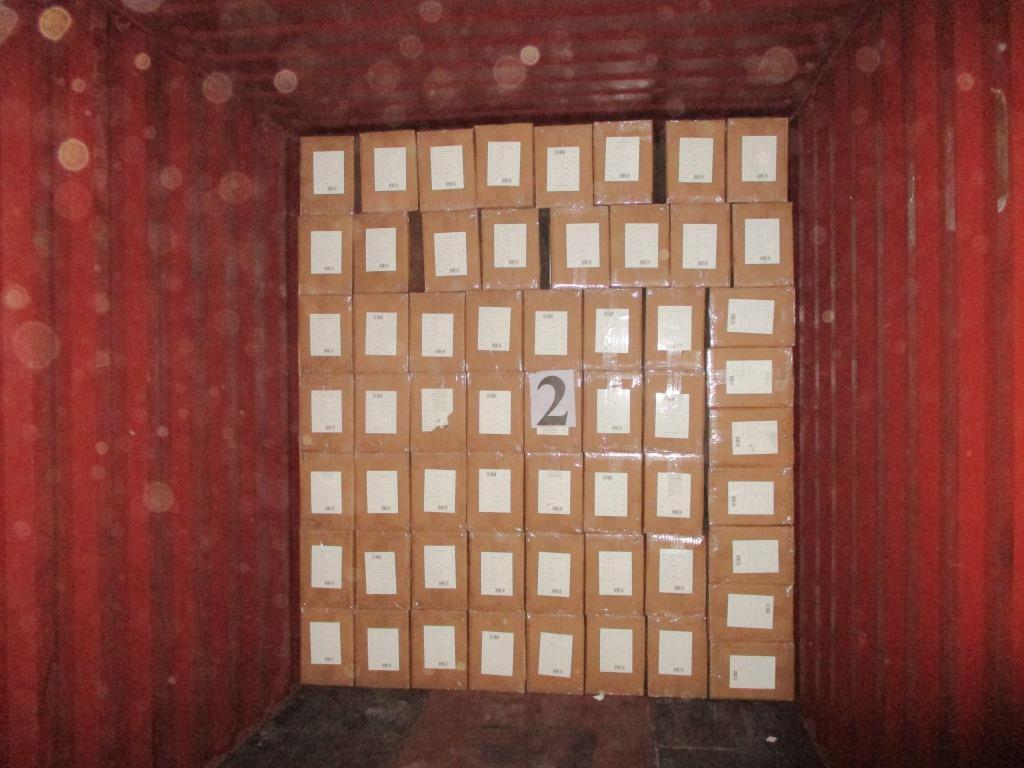carton: (480, 208, 548, 290), (353, 212, 420, 293), (726, 118, 789, 203), (707, 347, 794, 408), (643, 370, 705, 455), (708, 526, 795, 586), (732, 203, 794, 287), (644, 287, 706, 371), (709, 287, 795, 347), (643, 453, 705, 536), (670, 204, 732, 287), (707, 467, 794, 526), (592, 120, 653, 204), (665, 120, 726, 204), (474, 123, 534, 208), (645, 534, 707, 616), (709, 642, 795, 701), (583, 370, 644, 453), (534, 124, 594, 208), (523, 369, 583, 453), (709, 408, 794, 467), (647, 616, 708, 698), (549, 206, 610, 288), (585, 533, 645, 616), (421, 209, 481, 292), (610, 204, 670, 287), (585, 614, 646, 695), (708, 584, 793, 642), (583, 288, 643, 370), (359, 130, 419, 212), (417, 128, 476, 211), (583, 453, 643, 534), (523, 290, 583, 371), (526, 532, 585, 614), (525, 453, 584, 533), (527, 613, 585, 694), (465, 290, 523, 371), (297, 214, 355, 294), (410, 610, 468, 690), (466, 371, 523, 452), (409, 292, 466, 373), (467, 451, 524, 532), (469, 611, 526, 692), (409, 373, 467, 452), (469, 531, 526, 611), (354, 452, 411, 531), (354, 608, 410, 688), (353, 293, 409, 373), (300, 136, 356, 215), (299, 374, 355, 453), (299, 452, 355, 531), (355, 530, 411, 609), (412, 531, 468, 610), (355, 373, 410, 453), (411, 451, 466, 531), (298, 295, 353, 374), (300, 530, 355, 609), (300, 609, 354, 686)
